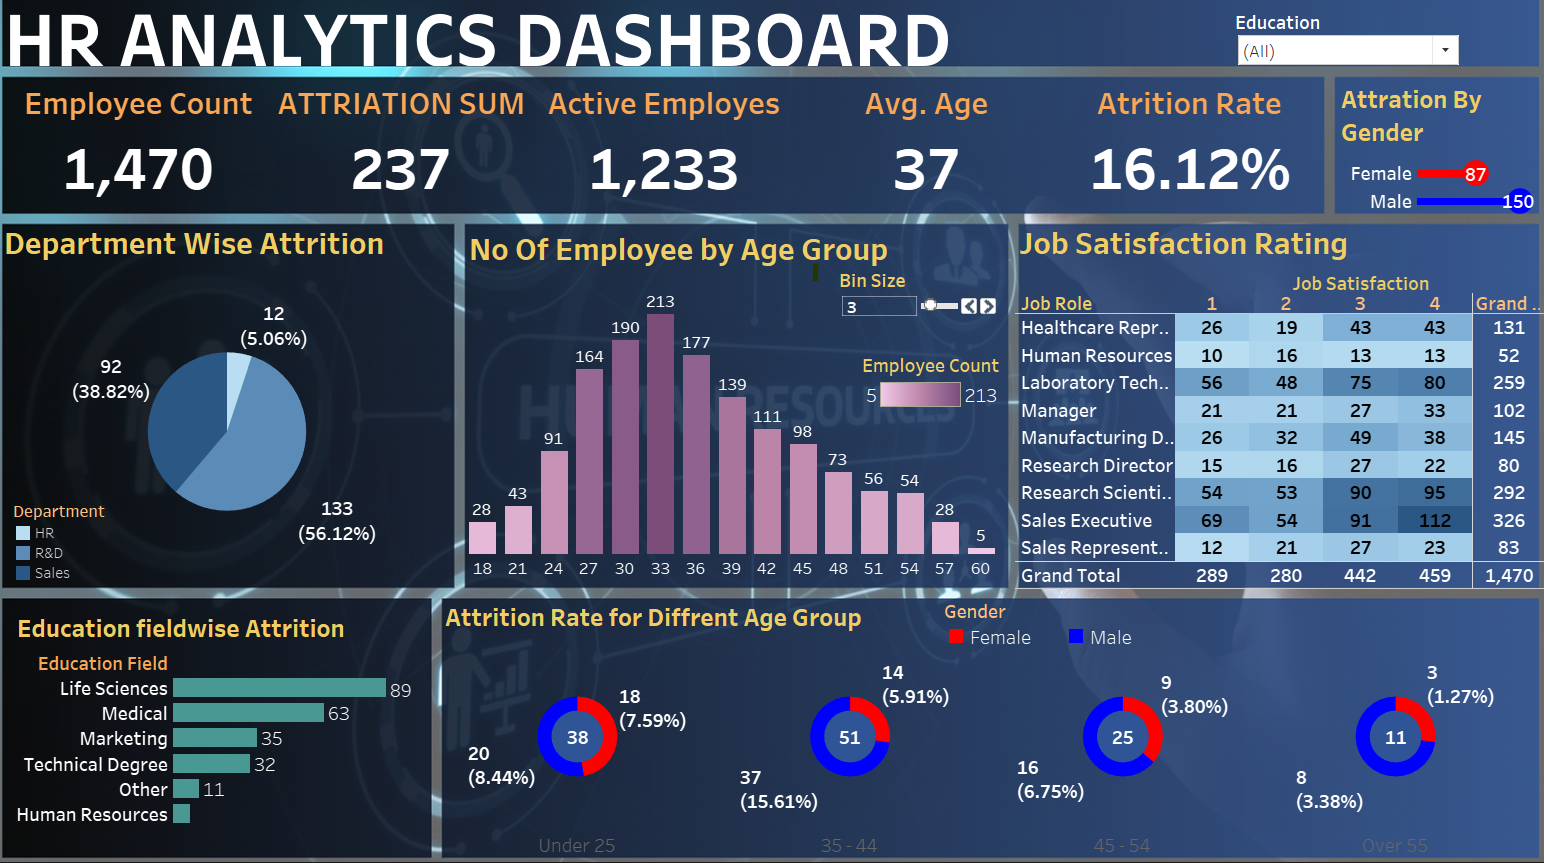

The page's visual inventory and layout, read from the dashboard file:
{"tool":"tableau","page":{"name":"HR Analytics Dashboard","canvas":[1580,900],"ordinal":0},"visuals":[{"type":"image","param":"C:/Users/Samiksha/Downloads/Screenshot 2025-06-15 134213.png","box":[8,8,1564,884]},{"type":"text","box":[21,30,1349,59]},{"type":"filter","title":"Attrition Rate for Diffrent Age Group","param":"[federated.13ehsul0slv2wh14696f01onx1ht].[none:Education:nk]","box":[1256,32,227,56]},{"type":"worksheet","title":"Attriation by gender","mark":"Automatic","rows":["Gender"],"cols":["Calculation_752664108843950080","Calculation_752664108843950080"],"box":[1358,101,201,137]},{"type":"worksheet","title":"KPI","mark":"Automatic","box":[28,105,1314,129]},{"type":"worksheet","title":"Department Wise Attrition","mark":"Pie","box":[21,240,454,373]},{"type":"worksheet","title":"Job Satisfaction Rating","mark":"Square","rows":["Job Role"],"cols":["Job Satisfaction"],"box":[1036,240,532,372]},{"type":"worksheet","title":"No Of Employee by Age Group","mark":"Automatic","rows":["Employee Count"],"cols":["Age (bin)"],"box":[486,246,534,357]},{"type":"parameter","param":"[Parameters].[Parameter 1]","box":[860,290,160,75]},{"type":"legend","title":"No Of Employee by Age Group","param":"[federated.13ehsul0slv2wh14696f01onx1ht].[sum:Employee Count:qk]","box":[883,375,140,55]},{"type":"legend","title":"Department Wise Attrition","param":"[federated.13ehsul0slv2wh14696f01onx1ht].[none:Department:nk]","box":[34,523,158,107]},{"type":"worksheet","title":"Attrition Rate for Diffrent Age Group","mark":"Pie","rows":["Calculation_752664108889919492","Calculation_752664108889919492"],"cols":["CF_age band"],"box":[462,619,1091,262]},{"type":"legend","title":"Attrition Rate for Diffrent Age Group","param":"[federated.13ehsul0slv2wh14696f01onx1ht].[none:Gender:nk]","box":[965,621,317,55]},{"type":"worksheet","title":"Education fieldwise Attrition","mark":"Automatic","rows":["Education Field"],"cols":["Calculation_752664108843950080"],"box":[34,630,414,219]}]}

Visuals, with their boxes in screenshot pixels (x1, y1, x2, y2), scaled from the page's 1580x900 canvas onto the 1544x863 screenshot:
image: detection(8, 8, 1536, 855)
text: detection(21, 29, 1339, 85)
"Attrition Rate for Diffrent Age Group" filter: detection(1227, 31, 1449, 84)
"Attriation by gender" worksheet: detection(1327, 97, 1523, 228)
"KPI" worksheet: detection(27, 101, 1311, 224)
"Department Wise Attrition" worksheet (Pie marks): detection(21, 230, 464, 588)
"Job Satisfaction Rating" worksheet (Square marks): detection(1012, 230, 1532, 587)
"No Of Employee by Age Group" worksheet: detection(475, 236, 997, 578)
parameter: detection(840, 278, 997, 350)
"No Of Employee by Age Group" legend: detection(863, 360, 1000, 412)
"Department Wise Attrition" legend: detection(33, 501, 188, 604)
"Attrition Rate for Diffrent Age Group" worksheet (Pie marks): detection(451, 594, 1518, 845)
"Attrition Rate for Diffrent Age Group" legend: detection(943, 595, 1253, 648)
"Education fieldwise Attrition" worksheet: detection(33, 604, 438, 814)
